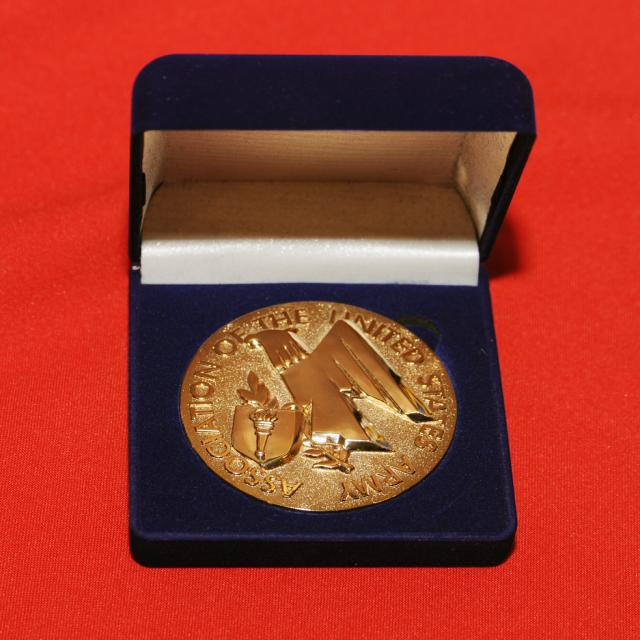Coin: (178, 299, 462, 510)
